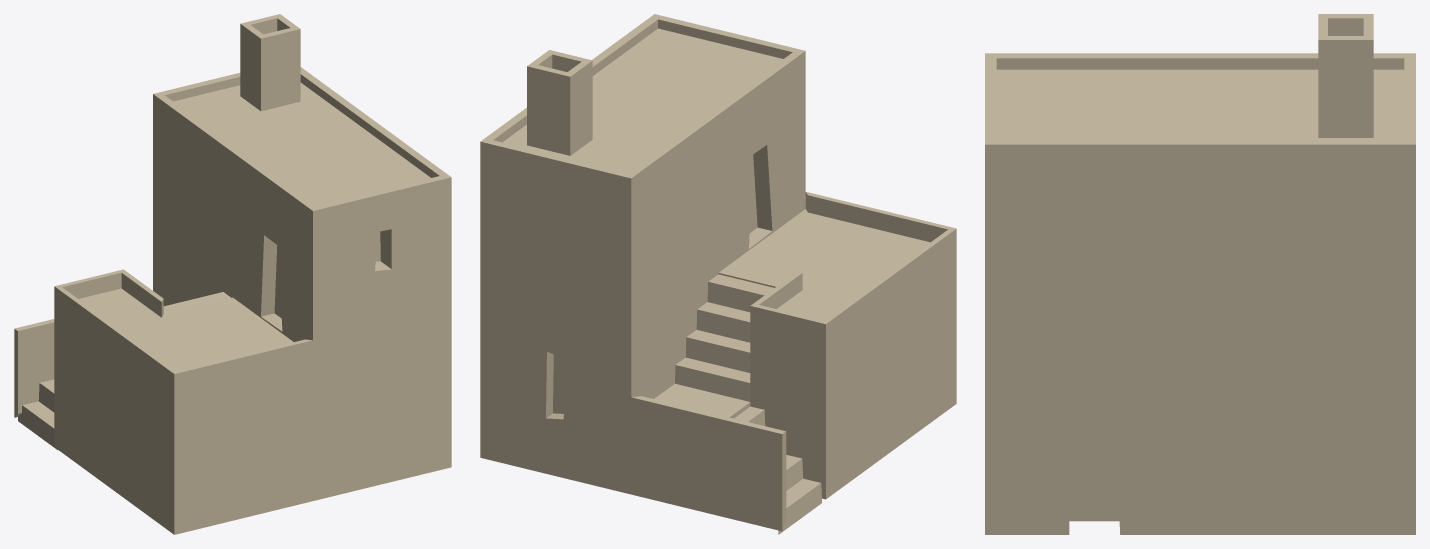
The model's file is House 5.fbx.
3 renders of one model, left to right at view 1: azimuth 30°, elevation 25°; view 2: azimuth 150°, elevation 25°; view 3: azimuth 270°, elevation 25°, orthographic. The views are drawn at different scales.
Visible parts, largest first — view 1: House 5; view 2: House 5; view 3: House 5.
Part boxes in pixels (x1,y1,x2,y2): House 5: [14, 14, 451, 534]; House 5: [480, 14, 956, 534]; House 5: [985, 14, 1415, 534].
Size of the model in its own units: 400 by 494 by 400.
